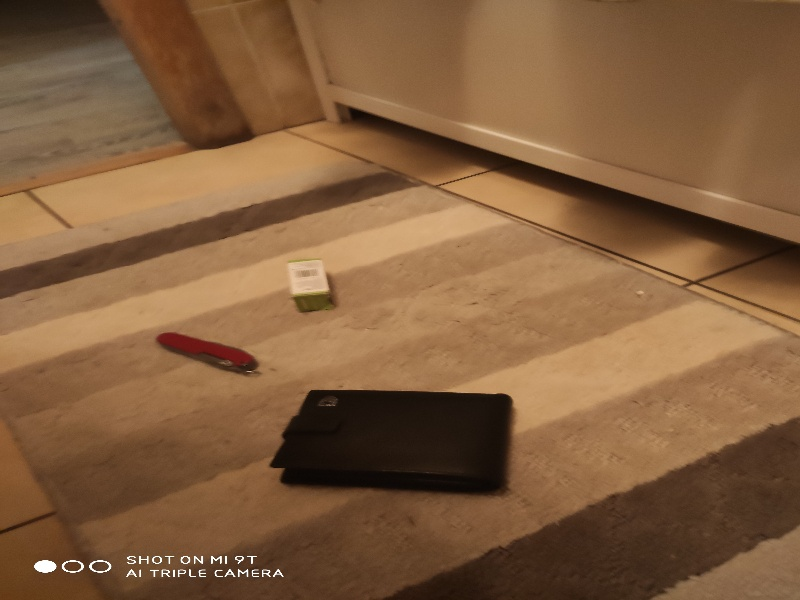ifrin: (281, 248, 338, 315)
knife: (138, 318, 268, 395)
wallet: (265, 381, 535, 495)
